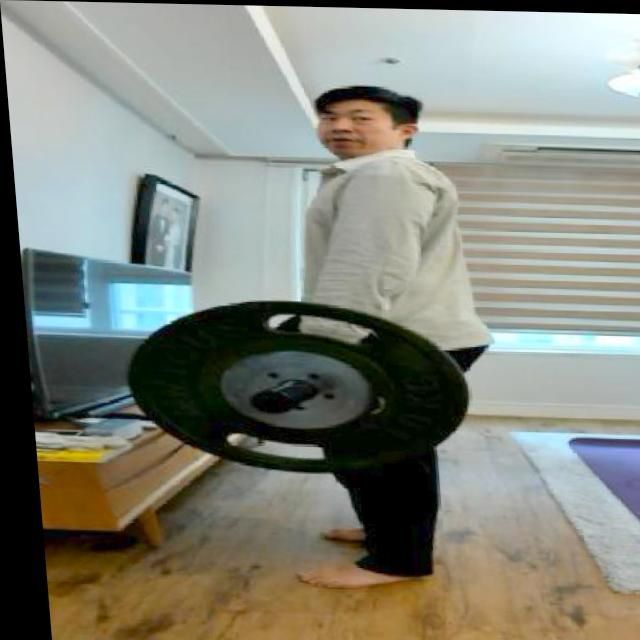barbell: (110, 290, 474, 486)
